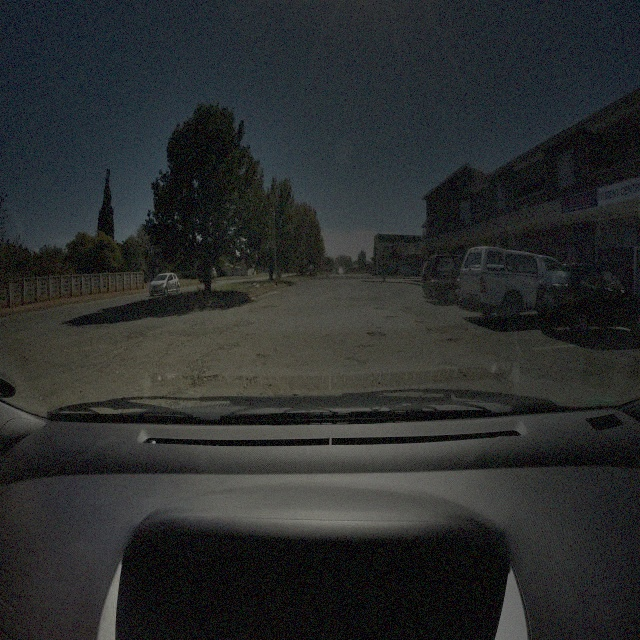pothole: (192, 371, 219, 388), (428, 325, 449, 335), (255, 350, 272, 360), (366, 331, 386, 338), (357, 343, 376, 350), (414, 318, 428, 326), (382, 314, 398, 321), (446, 335, 461, 342)
